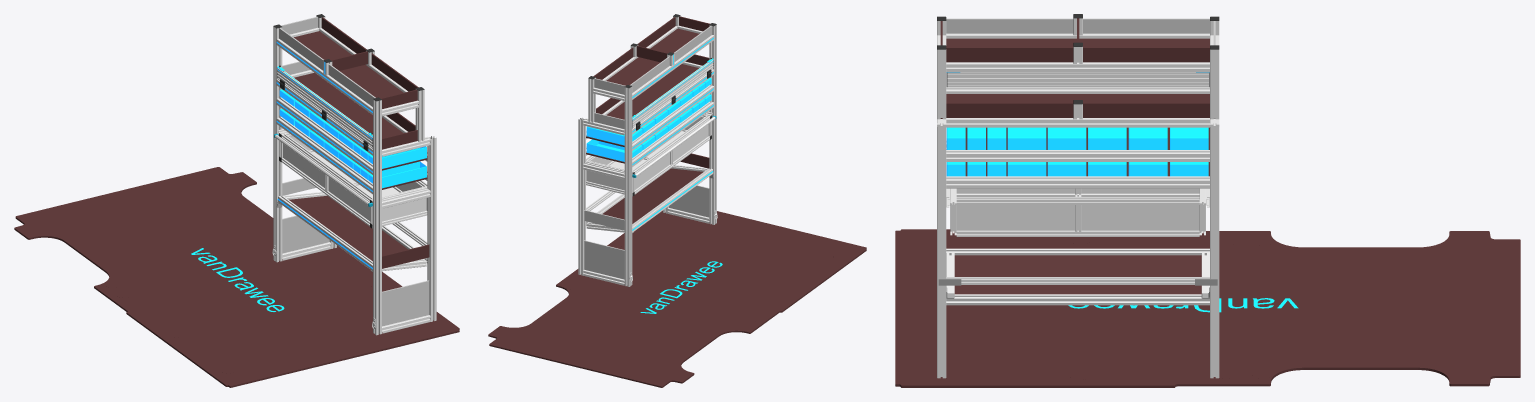
Rendered from vd_export_regalova_vestavba_renault_master_l2h2_cf4054ed.glb.
The picture shows the model from 3 angles, left to right: view 1: azimuth 30°, elevation 25°; view 2: azimuth 150°, elevation 25°; view 3: azimuth 270°, elevation 25°; orthographic projection. The views are drawn at different scales.
Parts seen in each view (by area): view 1: SomeName_Mesh_0043_2, 45x45x1700_noha (×2), PR10_1266x306 (×2), Multibox_Arc (×2), CUB10_395x260 (×2), PR10_1208x388, 45x45x1267_Zx2 (×3), 45x45x1330_noha, 45x45x1267_Zx2_2 (×2), 20x80x1258, 45x45x369_Zx2_2 (×3), 40x40x1266_2 (+20 smaller); view 2: SomeName_Mesh_0043_2, 45x45x1700_noha (×2), PR10_1266x306 (×2), Multibox_Arc (×2), CUB10_395x260 (×2), PR10_1208x388, 45x45x1267_Zx2 (×2), 45x45x1330_noha, 45x45x1267_Zx2_2 (×2), 20x80x1258, 40x40x1266_2, logo (+14 smaller); view 3: SomeName_Mesh_0043_2, 45x45x1267_Zx2_2 (×4), Multibox_Arc (×2), PR10_1208x388, 45x45x1267_Zx2 (×2), 45x45x1330_noha (×2), PR10_1266x306 (×2), 20x80x1258, 40x40x1266, PR8_584x155, PR8_584x155_3, 40x40x1266_2 (+14 smaller).
Boxes of the visible parts, <box> form: SomeName_Mesh_0043_2: <box>14,167,459,387</box>; 45x45x1700_noha (×2): <box>273,26,381,335</box>; PR10_1266x306 (×2): <box>294,31,403,138</box>; Multibox_Arc (×2): <box>279,89,426,188</box>; CUB10_395x260 (×2): <box>282,215,429,326</box>; PR10_1208x388: <box>289,195,407,261</box>; 45x45x1267_Zx2 (×3): <box>276,28,407,194</box>; 45x45x1330_noha: <box>427,136,436,321</box>; 45x45x1267_Zx2_2 (×2): <box>276,38,372,155</box>; 20x80x1258: <box>277,68,372,148</box>; 45x45x369_Zx2_2 (×3): <box>282,188,430,333</box>; 40x40x1266_2: <box>277,196,372,271</box>; SomeName_Mesh_0043_2: <box>488,210,866,387</box>; 45x45x1700_noha (×2): <box>624,24,716,286</box>; PR10_1266x306 (×2): <box>606,28,699,119</box>; Multibox_Arc (×2): <box>586,78,711,161</box>; CUB10_395x260 (×2): <box>584,185,709,279</box>; PR10_1208x388: <box>602,168,703,223</box>; 45x45x1267_Zx2 (×2): <box>632,85,713,166</box>; 45x45x1330_noha: <box>578,117,585,275</box>; 45x45x1267_Zx2_2 (×2): <box>632,35,713,134</box>; 20x80x1258: <box>632,59,713,127</box>; 40x40x1266_2: <box>632,168,713,232</box>; logo: <box>640,261,722,313</box>; SomeName_Mesh_0043_2: <box>895,229,1520,387</box>; 45x45x1267_Zx2_2 (×4): <box>946,33,1209,188</box>; Multibox_Arc (×2): <box>946,127,1208,176</box>; PR10_1208x388: <box>954,255,1201,294</box>; 45x45x1267_Zx2 (×2): <box>946,62,1209,127</box>; 45x45x1330_noha (×2): <box>937,124,1219,378</box>; PR10_1266x306 (×2): <box>946,38,1209,102</box>; 20x80x1258: <box>947,72,1208,87</box>; 40x40x1266: <box>946,294,1209,305</box>; PR8_584x155: <box>1081,203,1201,232</box>; PR8_584x155_3: <box>955,203,1074,232</box>; 40x40x1266_2: <box>946,248,1209,255</box>.
Bounding box in the file's own units: 1777 × 1733 × 3004.
